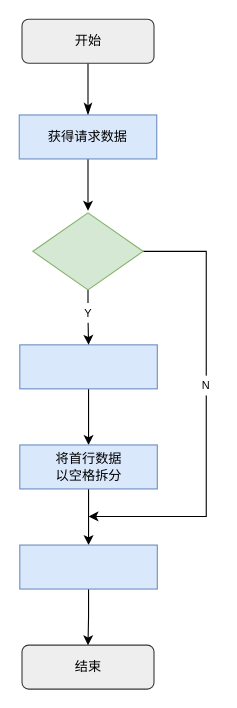
The diagram is 237 pixels wide and 708 high, and some of its shapes have lost their labels. Here are the shapes that lost their labels. From the top down, the centre of each, then its label:
At point 87,251: "请求数据是否 以GET开始？".
At point 88,366: "获得数据首行".
At point 88,566: "返回解析后的数据".
